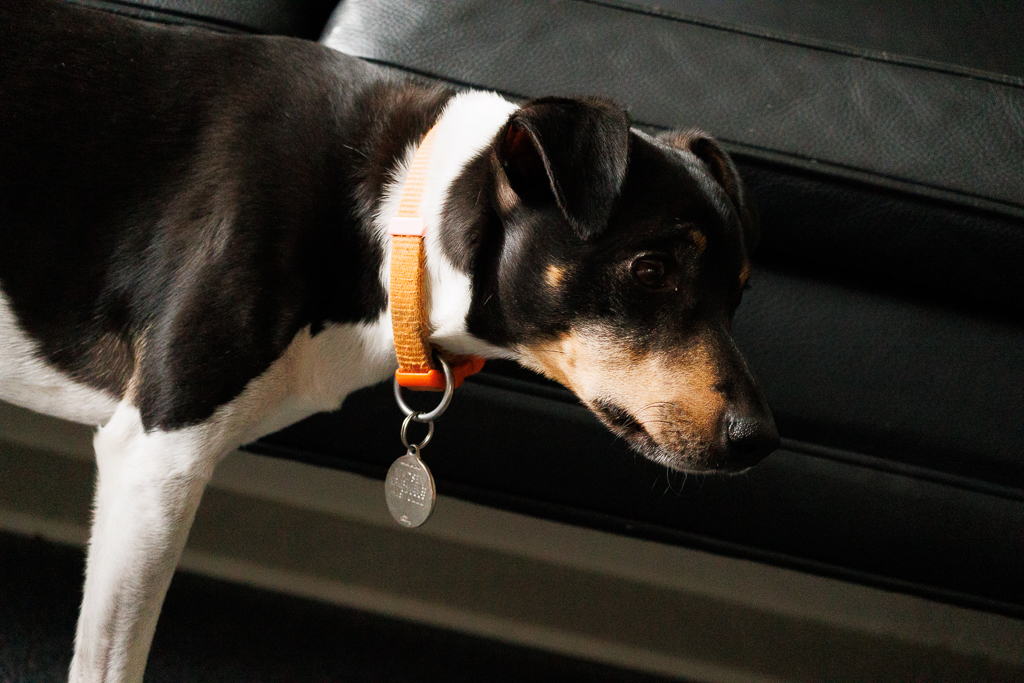Dog: (0, 0, 790, 683)
